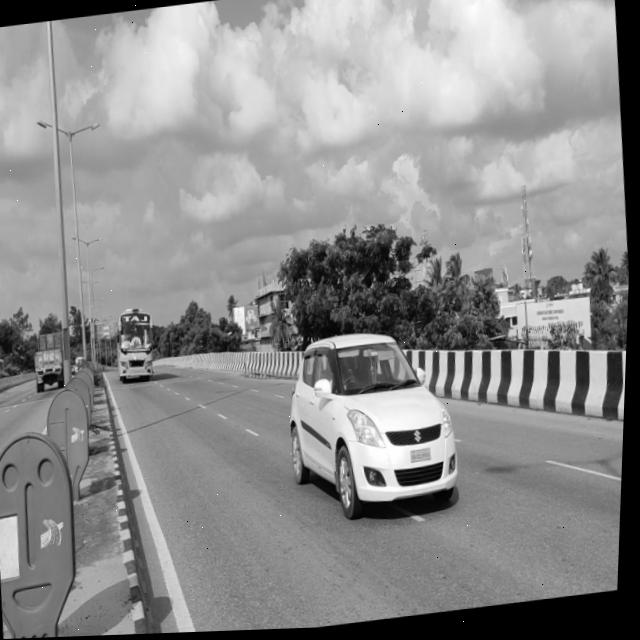bus: (113, 304, 166, 397)
car: (281, 322, 472, 533)
truck: (30, 322, 76, 405)
